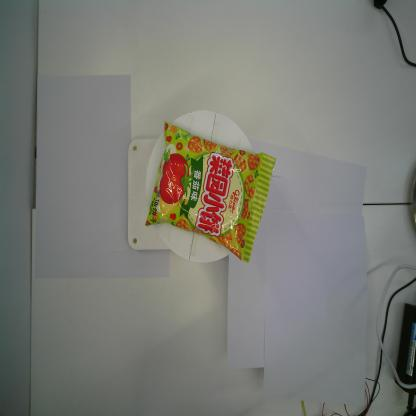Puffed Food: (142, 117, 280, 266)
